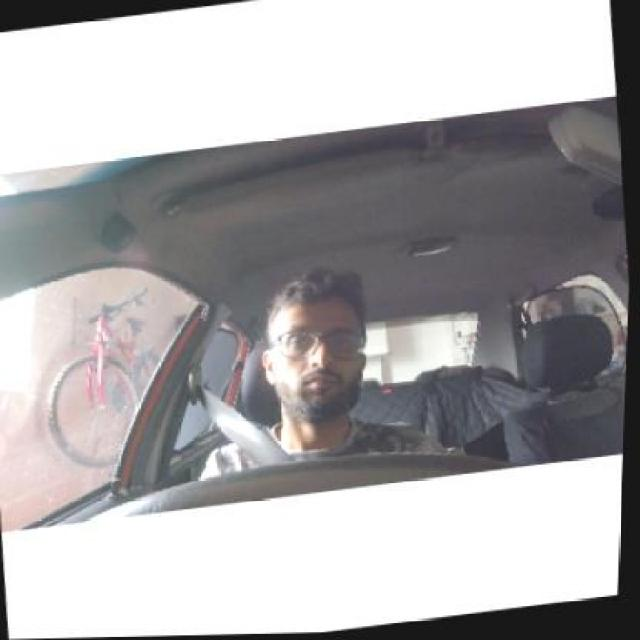person: (263, 278, 370, 414)
